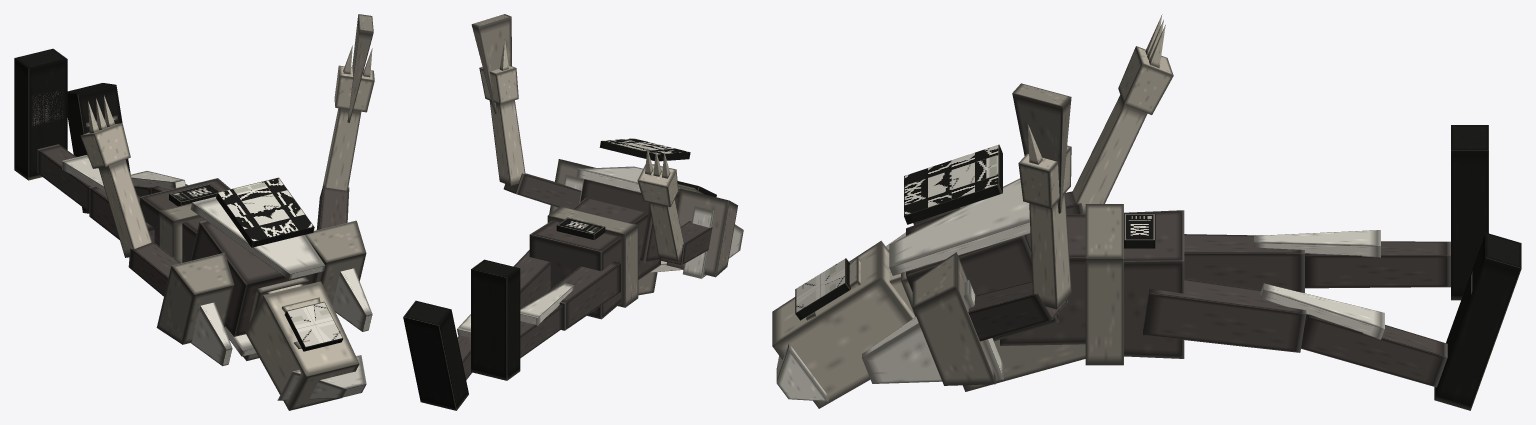
File: velaroth_hurt.obj
3 views of the same model, side by side, from view 1: azimuth 30°, elevation 25°; view 2: azimuth 150°, elevation 25°; view 3: azimuth 270°, elevation 25° (orthographic). The views are drawn at different scales.
Parts seen in each view (by area): view 1: velaroth_hurt; view 2: velaroth_hurt; view 3: velaroth_hurt.
Boxes of the visible parts, x1,y1,x2,y2 form: velaroth_hurt: (14, 14, 374, 410); velaroth_hurt: (403, 14, 743, 410); velaroth_hurt: (772, 14, 1521, 410).
Bounding box in the file's own units: 0.5297 × 0.5797 × 1.02.
1 material, 1 textured.
